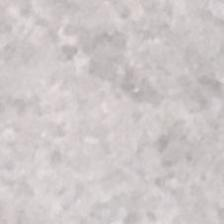Non_Crack: (27, 30, 201, 188)
